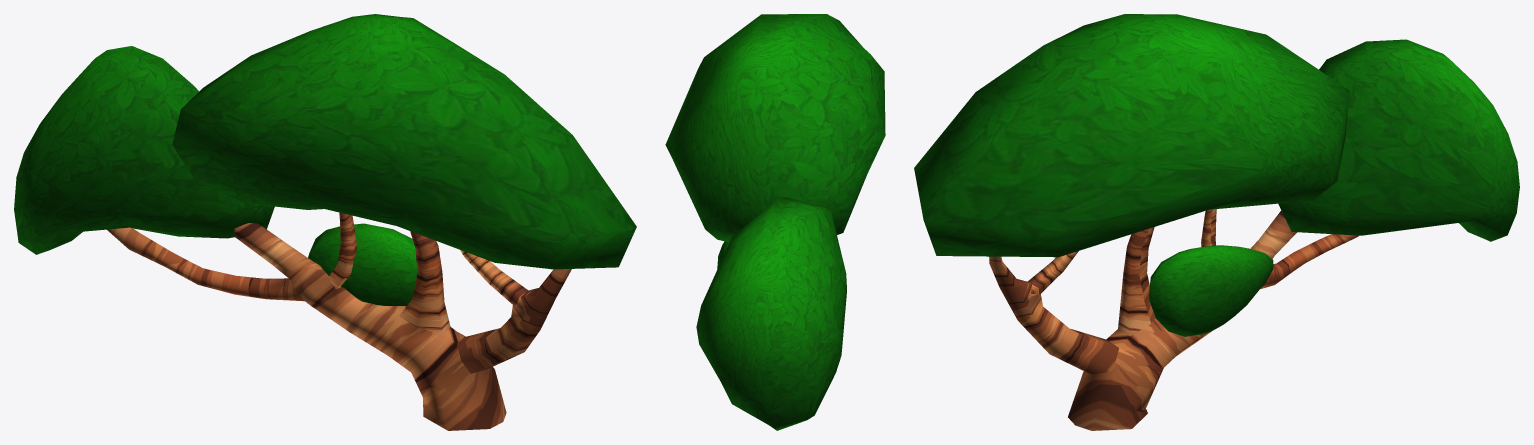
The model's file is tree 10.fbx.
3 renders of one model, left to right at view 1: azimuth 30°, elevation 25°; view 2: azimuth 150°, elevation 25°; view 3: azimuth 270°, elevation 25°, orthographic. The views are drawn at different scales.
Parts seen in each view (by area): view 1: tree_10; view 2: tree_10; view 3: tree_10.
Boxes of the visible parts, x1,y1,x2,y2 form: tree_10: [14, 14, 636, 430]; tree_10: [665, 14, 885, 430]; tree_10: [914, 14, 1519, 430].
Size of the model in its own units: 59.6 by 60.39 by 90.28.
